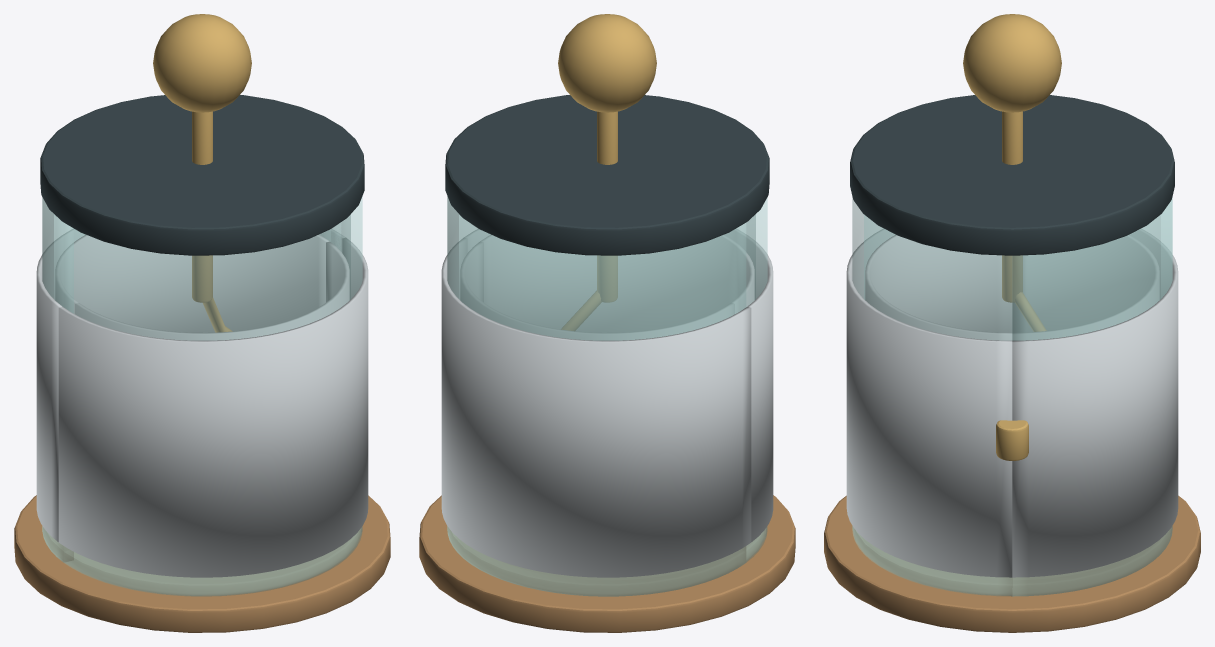
Rendered from leyden-jar.glb.
The picture shows the model from 3 angles, left to right: view 1: azimuth 30°, elevation 25°; view 2: azimuth 150°, elevation 25°; view 3: azimuth 270°, elevation 25°; orthographic projection.
Parts seen in each view (by area): view 1: OuterFoilFull, InsulatingStopper, GlassFull, JarFoot, InnerFoilCutaway, TopMetalTerminal, OuterFoilCutaway, GlassBottom, InnerFoilFull, GlassCutaway, InnerMetalStem; view 2: OuterFoilCutaway, InsulatingStopper, GlassFull, GlassCutaway, JarFoot, InnerFoilFull, TopMetalTerminal, OuterFoilFull, InnerFoilCutaway, InnerMetalStem, InnerConnection; view 3: InsulatingStopper, OuterFoilFull, OuterFoilCutaway, GlassFull, JarFoot, GlassCutaway, InnerFoilFull, InnerFoilCutaway, TopMetalTerminal, GlassBottom, InnerMetalStem, OuterTerminal.
Part boxes in pixels (x1=…): OuterFoilFull: x1=58, y1=238, x2=368, y2=577; InsulatingStopper: x1=40, y1=95, x2=364, y2=255; GlassFull: x1=42, y1=197, x2=362, y2=596; JarFoot: x1=14, y1=495, x2=390, y2=632; InnerFoilCutaway: x1=55, y1=235, x2=329, y2=332; TopMetalTerminal: x1=153, y1=14, x2=251, y2=112; OuterFoilCutaway: x1=36, y1=229, x2=345, y2=541; GlassBottom: x1=43, y1=527, x2=361, y2=595; InnerFoilFull: x1=75, y1=241, x2=349, y2=340; GlassCutaway: x1=42, y1=198, x2=73, y2=562; InnerMetalStem: x1=192, y1=111, x2=212, y2=302; OuterFoilCutaway: x1=441, y1=238, x2=751, y2=577; InsulatingStopper: x1=445, y1=95, x2=769, y2=255; GlassFull: x1=447, y1=197, x2=767, y2=596; GlassCutaway: x1=447, y1=197, x2=745, y2=596; JarFoot: x1=419, y1=495, x2=795, y2=632; InnerFoilFull: x1=480, y1=235, x2=754, y2=332; TopMetalTerminal: x1=558, y1=14, x2=656, y2=112; OuterFoilFull: x1=464, y1=229, x2=773, y2=541; InnerFoilCutaway: x1=460, y1=242, x2=734, y2=340; InnerMetalStem: x1=597, y1=111, x2=617, y2=302; InnerConnection: x1=561, y1=291, x2=601, y2=330; InsulatingStopper: x1=850, y1=95, x2=1174, y2=255; OuterFoilFull: x1=846, y1=229, x2=1012, y2=577; OuterFoilCutaway: x1=1012, y1=229, x2=1178, y2=577; GlassFull: x1=852, y1=198, x2=1172, y2=596; JarFoot: x1=824, y1=495, x2=1200, y2=632; GlassCutaway: x1=1012, y1=198, x2=1172, y2=596; InnerFoilFull: x1=865, y1=235, x2=1012, y2=340; InnerFoilCutaway: x1=1012, y1=235, x2=1159, y2=340; TopMetalTerminal: x1=963, y1=14, x2=1061, y2=112; GlassBottom: x1=852, y1=526, x2=1171, y2=595; InnerMetalStem: x1=1002, y1=111, x2=1022, y2=302; OuterTerminal: x1=996, y1=420, x2=1028, y2=460.
Bounding box in the file's own units: 1.6 × 2.51 × 1.6.
